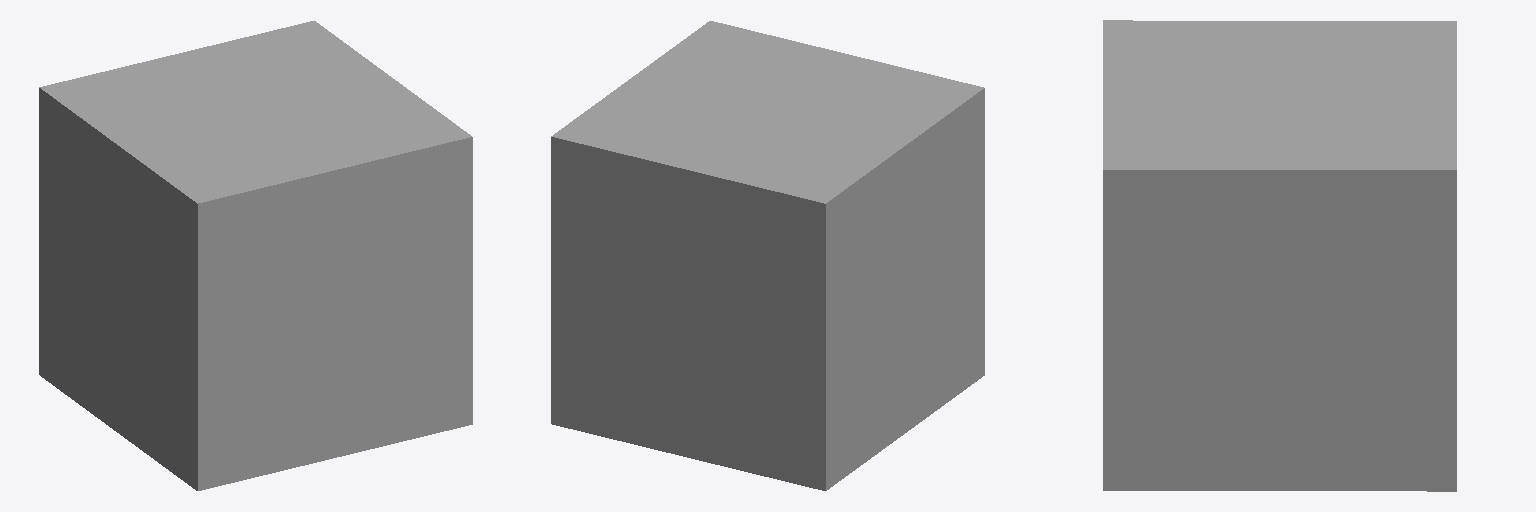
URDF robot description (ur5):
<robot name="ur5">
  <link name="world"/>
  <!-- <material name="ur5_mat">
    <color rgba="0.7 0.7 0.7 1.0">
  </material>
  <material name="ur5_blue_mat">
    <color rgba="0.0 0.0 0.8 1.0">
  </material> -->
  <material name="UR/Grey">
    <color rgba="0.7 0.7 0.7 1.0"/>
  </material>
  <material name="Gripper">
    <color rgba="0.3 0.3 0.3 1.0"/>
  </material>

  <joint name="base_link_fix" type="fixed">
      <origin xyz="0 0 0" rpy="1.57079633 -1.57079633  3.14" />
      <parent link="world" />
      <child link="base_link" />
  </joint>
<!-- <joint name="patch_fix" type="fixed">
      <origin xyz="0 0 0" rpy="0 0 0" />
      <parent link="world" />
      <child link="gripper_center_link" />
  </joint> -->

  <link name="base_link">
    <visual>
      <geometry>
        <mesh filename="meshes/ur5/visual/base.stl"/>
      </geometry>
      <material name="UR/Grey"/>
    </visual>
    <collision>
      <origin
        xyz="0 0 0"
        rpy="0 0 0" />
      <geometry>
        <mesh filename="meshes/ur5/visual/base.stl"/>
      </geometry>
    </collision>
    <inertial>
      <mass value="4.0"/>
      <origin rpy="0 0 0" xyz="0.0 0.0 0.0"/>
      <inertia ixx="0.00443333156" ixy="0.0" ixz="0.0" iyy="0.00443333156" iyz="0.0" izz="0.0072"/>
    </inertial>
  </link>

  <joint name="shoulder_pan_joint" type="revolute">
    <parent link="base_link"/>
    <child link="shoulder_link"/>
    <origin rpy="0.0 0.0 0.0" xyz="0.0 0.0 0.089159"/>
    <axis xyz="0 0 1"/>
    <limit effort="150.0" lower="-3.14159265" upper="3.14159265" velocity="3.15"/>
    <dynamics damping="0.0" friction="0.0"/>
  </joint>

  <link name="shoulder_link">
    <visual>
      <geometry>
        <mesh filename="meshes/ur5/visual/shoulder.stl"/>
      </geometry>
      <material name="UR/Grey"/>
    </visual>
    <collision>
      <origin
        xyz="0 0 0"
        rpy="0 0 0" />
      <geometry>
        <mesh filename="meshes/ur5/visual/shoulder.stl"/>
      </geometry>
    </collision>
    <inertial>
      <mass value="3.7"/>
      <origin rpy="0 0 0" xyz="0.0 0.0 0.0"/>
      <inertia ixx="0.010267495893" ixy="0.0" ixz="0.0" iyy="0.010267495893" iyz="0.0" izz="0.00666"/>
    </inertial>
  </link>

  <joint name="shoulder_lift_joint" type="revolute">
    <parent link="shoulder_link"/>
    <child link="upper_arm_link"/>
    <origin rpy="0.0 1.570796325 0.0" xyz="0.0 0.13585 0.0"/>
    <axis xyz="0 1 0"/>
    <limit effort="150.0" lower="-3.14159265" upper="-0" velocity="3.15"/>
    <!-- <limit effort="150.0" lower="-3.14159265" upper="-0.8" velocity="3.15"/> -->
    <dynamics damping="0.0" friction="0.0"/>
  </joint>

  <link name="upper_arm_link">
    <visual>
      <geometry>
        <mesh filename="meshes/ur5/visual/upperarm.stl"/>
      </geometry>
      <material name="UR/Grey"/>
    </visual>
    <collision>
      <origin
        xyz="0 0 0"
        rpy="0 0 0" />
      <geometry>
        <mesh filename="meshes/ur5/visual/upperarm.stl"/>
      </geometry>
    </collision>
    <inertial>
      <mass value="8.393"/>
      <origin rpy="0 0 0" xyz="0.0 0.0 0.28"/>
      <inertia ixx="0.22689067591" ixy="0.0" ixz="0.0" iyy="0.22689067591" iyz="0.0" izz="0.0151074"/>
    </inertial>
  </link>

  <joint name="elbow_joint" type="revolute">
    <parent link="upper_arm_link"/>
    <child link="forearm_link"/>
    <origin rpy="0.0 0.0 0.0" xyz="0.0 -0.1197 0.425"/>
    <axis xyz="0 1 0"/>
    <limit effort="150.0" lower="-3.14159265" upper="3.14159265" velocity="3.15"/>
    <dynamics damping="0.0" friction="0.0"/>
  </joint>

  <link name="forearm_link">
    <visual>
      <geometry>
        <mesh filename="meshes/ur5/visual/forearm.stl"/>
      </geometry>
      <material name="UR5/Grey">
        <color rgba="0.7 0.7 0.7 1.0"/>
      </material>
    </visual>
    <collision>
      <origin
        xyz="0 0 0"
        rpy="0 0 0" />
      <geometry>
        <mesh filename="meshes/ur5/visual/forearm.stl"/>
      </geometry>
    </collision>
    <inertial>
      <mass value="2.275"/>
      <origin rpy="0 0 0" xyz="0.0 0.0 0.25"/>
      <inertia ixx="0.049443313556" ixy="0.0" ixz="0.0" iyy="0.049443313556" iyz="0.0" izz="0.004095"/>
    </inertial>
  </link>

  <joint name="wrist_1_joint" type="revolute">
    <parent link="forearm_link"/>
    <child link="wrist_1_link"/>
    <origin rpy="0.0 1.570796325 0.0" xyz="0.0 0.005 0.39225"/>
    <axis xyz="0 1 0"/>
    <limit effort="28.0" lower="-3.14159265" upper="3.14159265" velocity="3.2"/>
    <dynamics damping="0.0" friction="0.0"/>
  </joint>

  <link name="wrist_1_link">
    <visual>
      <geometry>
        <mesh filename="meshes/ur5/visual/wrist1.stl"/>
      </geometry>
      <material name="UR/Grey"/>
    </visual>
    <collision>
      <origin
        xyz="0 0 0"
        rpy="0 0 0" />
      <geometry>
        <mesh filename="meshes/ur5/visual/wrist1.stl"/>
      </geometry>
    </collision>
    <inertial>
      <mass value="1.219"/>
      <origin rpy="0 0 0" xyz="0.0 0.0 0.0"/>
      <inertia ixx="0.111172755531" ixy="0.0" ixz="0.0" iyy="0.111172755531" iyz="0.0" izz="0.21942"/>
    </inertial>
  </link>

  <joint name="wrist_2_joint" type="revolute">
    <parent link="wrist_1_link"/>
    <child link="wrist_2_link"/>
    <origin rpy="0.0 0.0 0.0" xyz="0.0 0.093 0.0"/>
    <axis xyz="0 0 1"/>
    <limit effort="28.0" lower="-3.14159265" upper="3.14159265" velocity="3.2"/>
    <dynamics damping="0.0" friction="0.0"/>
  </joint>

  <link name="wrist_2_link">
    <visual>
      <geometry>
        <mesh filename="meshes/ur5/visual/wrist2.stl"/>
      </geometry>
      <material name="UR/Grey"/>

    </visual>
    <!--collision>
      <origin
        xyz="0 0 0"
        rpy="0 0 0" />
      <geometry>
        <mesh filename="meshes/ur5/visual/wrist2.stl"/>
      </geometry>
    </collision-->
    <inertial>
      <mass value="1.219"/>
      <origin rpy="0 0 0" xyz="0.0 0.0 0.0"/>
      <inertia ixx="0.111172755531" ixy="0.0" ixz="0.0" iyy="0.111172755531" iyz="0.0" izz="0.21942"/>
    </inertial>
  </link>

  <joint name="wrist_3_joint" type="revolute">
    <parent link="wrist_2_link"/>
    <child link="wrist_3_link"/>
    <origin rpy="0.0 0.0 0.0" xyz="0.0 0.0 0.09465"/>
    <axis xyz="0 1 0"/>
    <limit effort="28.0" lower="-100" upper="100" velocity="3.2"/>
    <dynamics damping="0.0" friction="0.0"/>
  </joint>

  <link name="wrist_3_link">
    <visual>
      <geometry>
        <mesh filename="meshes/ur5/visual/wrist3.stl"/>
      </geometry>
      <material name="UR/Grey"/>

    </visual>
    <collision>
      <origin
        xyz="0 0 0"
        rpy="0 0 0" />
      <geometry>
        <mesh filename="meshes/ur5/visual/wrist3.stl"/>
      </geometry>
    </collision>
    <inertial>
      <mass value="0.1879"/>
      <origin rpy="0 0 0" xyz="0.0 0.0 0.0"/>
      <inertia ixx="0.0171364731454" ixy="0.0" ixz="0.0" iyy="0.0171364731454" iyz="0.0" izz="0.033822"/>
    </inertial>
  </link>


  <joint name="ee_fixed_joint" type="fixed">
    <parent link="wrist_3_link"/>
    <child link="ee_link"/>
    <origin rpy="0.0 0.0 1.570796325" xyz="0.0 0.0823 0.0"/>
  </joint>

  <link name="ee_link">
    <!-- <collision>
      <geometry>
        <box size="0.01 0.01 0.01"/>
      </geometry>
      <origin rpy="0 0 0" xyz="-0.01 0 0"/>
    </collision> -->
    <visual>
      <geometry>
        <box size="0.01 0.01 0.01"/>
      </geometry>
      <material name="UR/Grey"/>
    </visual>
  </link>


  <joint name="ee_link_to_robotiq_base_link" type="fixed">
    <parent link="ee_link"/>
    <child link="robotiq_base_link"/>
    <origin rpy="1.57079633 0.0 1.57079633" xyz="0.01 0.0 0.0"/>
  </joint>

  <link name="robotiq_base_link">
    <visual>
      <geometry>
        <mesh filename="meshes/ur5/visual/robotiq_85_base_link_coarse.stl"/>
      </geometry>
      <material name="Gripper"/>
    </visual>
    <collision>
      <origin
        xyz="0 0 0"
        rpy="0 0 0" />
      <geometry>
        <mesh filename="meshes/ur5/visual/robotiq_85_base_link_coarse.stl"/>
      </geometry>
    </collision>
    <inertial>
      <mass value="0.30915"/>
      <origin xyz="0.00021987 -2.3546e-10 0.030163" rpy="2.04599906e-02 -6.72138114e-07  1.57082885e+00"/>
      <inertia ixx="0.00030737" ixy="0.0" ixz="0.0" iyy="0.000289758" iyz="0.0" izz="0.000199102"/>
    </inertial>
  </link>


    <link name="bottle_link">
        <inertial>
            <mass value="1.0" />
            <origin xyz="0 0 0" rpy="0 0 0" />
            <inertia ixx="1.0" ixy="0" ixz="0" iyy="1.0" iyz="0" izz="1.0" />
        </inertial>
        <visual>
            <origin xyz="0 0 0" rpy="0 0 0" />
            <geometry>
                <mesh filename= "new_bottle/bottle.obj" scale="0.001 0.0023 0.001"/>
            </geometry>
            <material name="bottle_mat">
                <color rgba="0.8 0.8 0.85 0.8"/>
            </material>
        </visual>
    </link>
    <joint name="bottle_fixed" type="fixed">
      <parent link="robotiq_base_link"/>
      <child link="bottle_link" />
      <origin xyz="0 0.05 0.16" rpy="0 0 3.1415"/>
    </joint>

  <!-- create a fixed joint that represents where the center of the gipper is-->
  <joint name="base_to_gripper_center" type="fixed">
    <parent link="robotiq_base_link"/>
    <child link="gripper_center_link"/>
    <origin xyz="0 0 0.14" rpy="0 0 0"/>
  </joint>

  <link name="gripper_center_link">
    <!-- <visual>
      <geometry>
          <sphere radius="0.01"/>
      </geometry>
      <material name="blue">
          <color rgba="0 0 1 1"/>
      </material>
    </visual> -->
  </link>



  <joint name="base_to_lik" type="revolute">
    <parent link="robotiq_base_link"/>
    <child link="left_inner_knuckle"/>
    <origin xyz="0.0127 0 0.0693075" rpy="0 0 0"/>
    <axis xyz="0 1 0"/>
    <limit lower="-0.35" upper="0.3" effort="20" velocity="3.2"/>
  </joint>



  <link name="left_inner_knuckle">
    <!-- <contact>
      <friction_anchor/>
      <stiffness value="30000.0"/>
      <damping value="1000.0"/>
      <spinning_friction value="0.1"/>
      <lateral_friction value="1.0"/>
    </contact> -->
    <visual>
      <geometry>
        <mesh filename="meshes/ur5/visual/inner_knuckle_coarse.stl"/>
      </geometry>
      <material name="Gripper"/>
    </visual>
    <inertial>
      <mass value="0.0110931"/>
      <origin xyz="0.0170975 -3.93809e-10 0.0224918" rpy="0.0 -0.64997493  0.0"/>
      <inertia ixx="5.59353e-06" ixy="0.0" ixz="0.0" iyy="3.96549e-06" iyz="0.0" izz="1.88108e-06"/>
    </inertial>
  </link>

  <joint name="base_to_rik" type="revolute">
    <parent link="robotiq_base_link"/>
    <child link="right_inner_knuckle"/>
    <origin xyz="-0.0127 0 0.0693075" rpy="0.0 0.0 3.14159265"/>
    <axis xyz="0 1 0"/>
    <limit lower="-0.35" upper="0.3" effort="20" velocity="3.2"/>
  </joint>
  

  <link name="right_inner_knuckle">
    <!-- <contact>
      <friction_anchor/>
      <stiffness value="30000.0"/>
      <damping value="1000.0"/>
      <spinning_friction value="0.1"/>
      <lateral_friction value="1.0"/>
    </contact> -->
    <visual>

      <geometry>
        <mesh filename="meshes/ur5/visual/inner_knuckle_coarse.stl"/>
      </geometry>
      <material name="Gripper"/>
    </visual>

    <inertial>
      <mass value="0.0110931"/>
      <origin xyz="0.0168606 3.93808e-10 0.02267" rpy="0.0 -0.64997493  0.0"/>
      <inertia ixx="5.59353e-06" ixy="0.0" ixz="0.0" iyy="3.96549e-06" iyz="0.0" izz="1.88108e-06"/>
    </inertial>
  </link>

  <joint name="lik_to_lif" type="fixed">
    <parent link="left_inner_knuckle"/>
    <child link="left_inner_finger"/>
    <origin xyz="0.0345853 0 0.045497" rpy="0 0 0"/>
  </joint>

  <link name="left_inner_finger">
    <contact>
      <friction_anchor/>
      <stiffness value="30000.0"/>
      <damping value="1000.0"/>
      <spinning_friction value="0.1"/>
      <lateral_friction value="1.0"/>
    </contact>

    <visual>
      <origin xyz="0 0 0.025" rpy="0 0 0" />
      <geometry>
        <mesh filename="box.obj" scale="0.005 0.01 0.02" />
      </geometry>
      <material name="Gripper"/>
    </visual>
    <inertial>
      <mass value="0.00724255"/>
      <origin xyz="0.00602756 0 0.00669926" rpy="0.30191756 0.0 1.57079633"/>
      <inertia ixx="1.70064e-06" ixy="0.0" ixz="0.0" iyy="1.58577e-06" iyz="0.0" izz="3.69621e-07"/>
    </inertial>
    <collision>
      <origin xyz="0 0 0.025" rpy="0 0 0" />
      <geometry>
        <mesh filename="box.obj" scale="0.005 0.01 0.02" />
      </geometry>
    </collision>
  </link>



  <joint name="rik_to_rif" type="fixed">
    <parent link="right_inner_knuckle"/>
    <child link="right_inner_finger"/>
    <origin xyz="0.0345853 0 0.045497" rpy="0 0 0"/>
  </joint>

  <link name="right_inner_finger">
    <contact>
      <friction_anchor/>
      <stiffness value="30000.0"/>
      <damping value="1000.0"/>
      <spinning_friction value="0.1"/>
      <lateral_friction value="1.0"/>
    </contact>
    <visual>
      <origin xyz="0 0 0.025" rpy="0 0 0" />
      <geometry>
        <mesh filename="box.obj" scale="0.005 0.01 0.02" />
      </geometry>
      <material name="Gripper"/>
    </visual>
    <inertial>
      <mass value="0.00724255"/>
      <origin xyz="0.00602756 0 0.00669926" rpy="0.30191756 0.0 1.57079633"/>
      <inertia ixx="1.70064e-06" ixy="0.0" ixz="0.0" iyy="1.58577e-06" iyz="0.0" izz="3.69621e-07"/>
    </inertial>
    <collision>
      <origin xyz="0 0 0.025" rpy="0 0 0" />
      <geometry>
        <mesh filename="box.obj" scale="0.005 0.01 0.02" />
      </geometry>
    </collision>
  </link>

</robot>

--- What the picture shows (computed from the rendered views, not written in the file) ---
Views: 3 orthographic renders of the robot side by side, from view 1: azimuth 30°, elevation 25°; view 2: azimuth 150°, elevation 25°; view 3: azimuth 270°, elevation 25°.
Robot: ur5 — 16 links, 15 joints (8 revolute, 7 fixed); root link world; default pose: all joints at 0.
Links seen in each view (by area): view 1: ee_link; view 2: ee_link; view 3: ee_link.
Link boxes in pixels (x1=…): ee_link: x1=39, y1=21, x2=472, y2=490; ee_link: x1=551, y1=21, x2=984, y2=490; ee_link: x1=1103, y1=20, x2=1456, y2=491.
Bounding box of the posed robot: 0.01 × 0.01 × 0.01 m (x, y, z).
Meshes: 11 distinct files referenced, 0 mesh visuals loaded (none loaded); not drawn: 13 (reference not matched to a file when rendering).